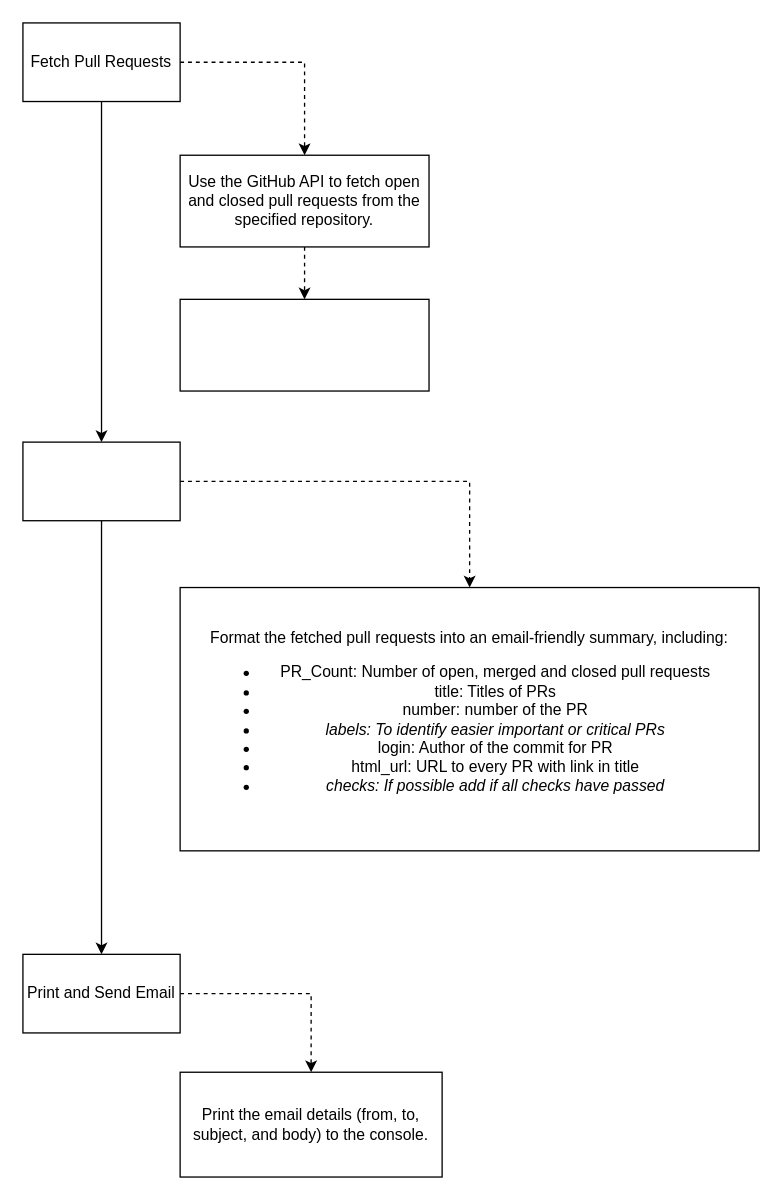
This 782x1200 diagram has some shape labels left out. Here are the shapes that lost their labels. From the top down, the box of each, then its label:
(179, 298, 429, 391): Filter the PR's to include only those created in the last week.
(22, 441, 180, 521): Format Email
